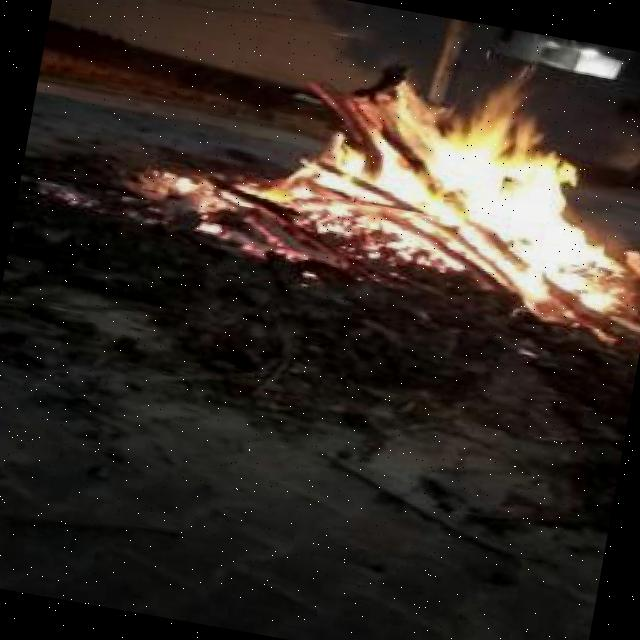fire: (274, 26, 640, 308)
